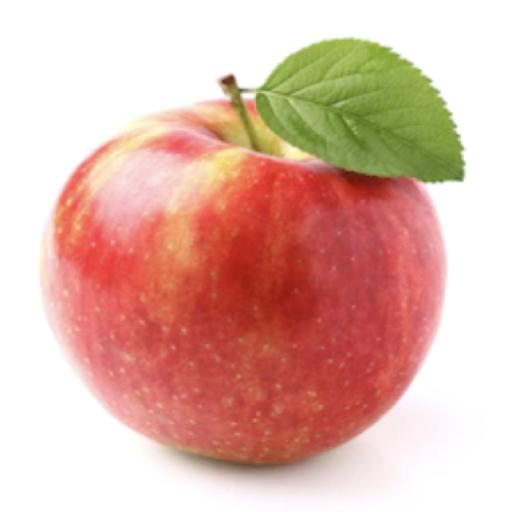apple: (41, 101, 444, 463)
